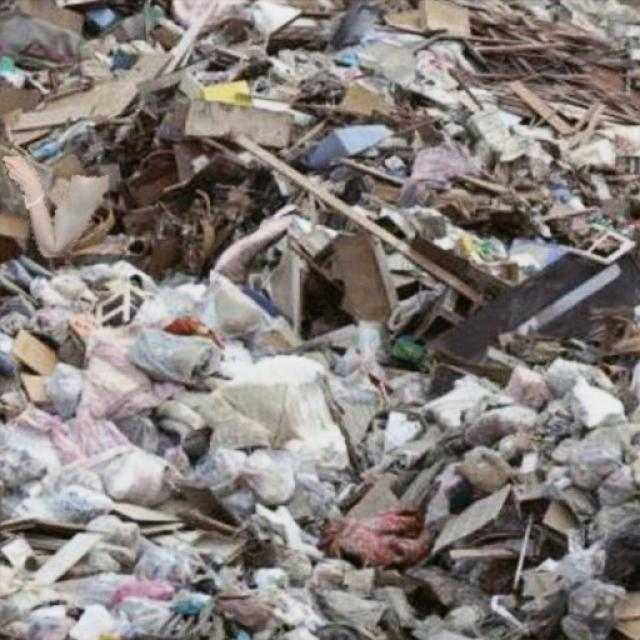Person in Rubble: (2, 156, 108, 256)
